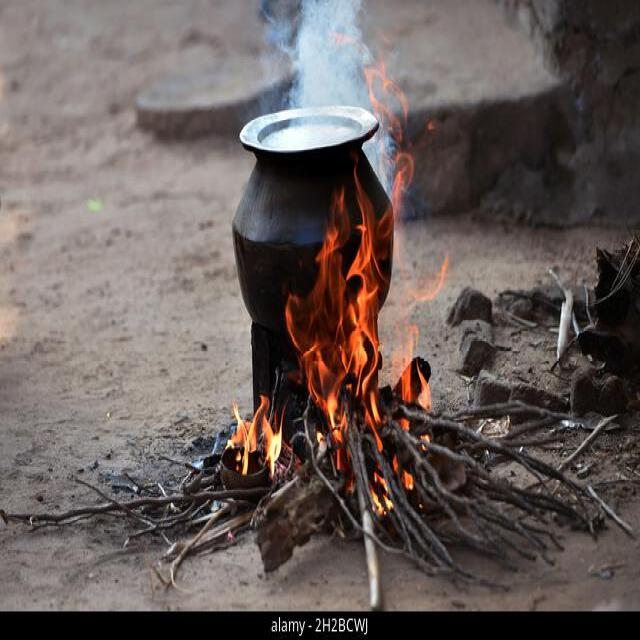fire: (284, 166, 383, 467), (366, 62, 414, 205), (227, 395, 283, 477), (399, 325, 432, 411)
